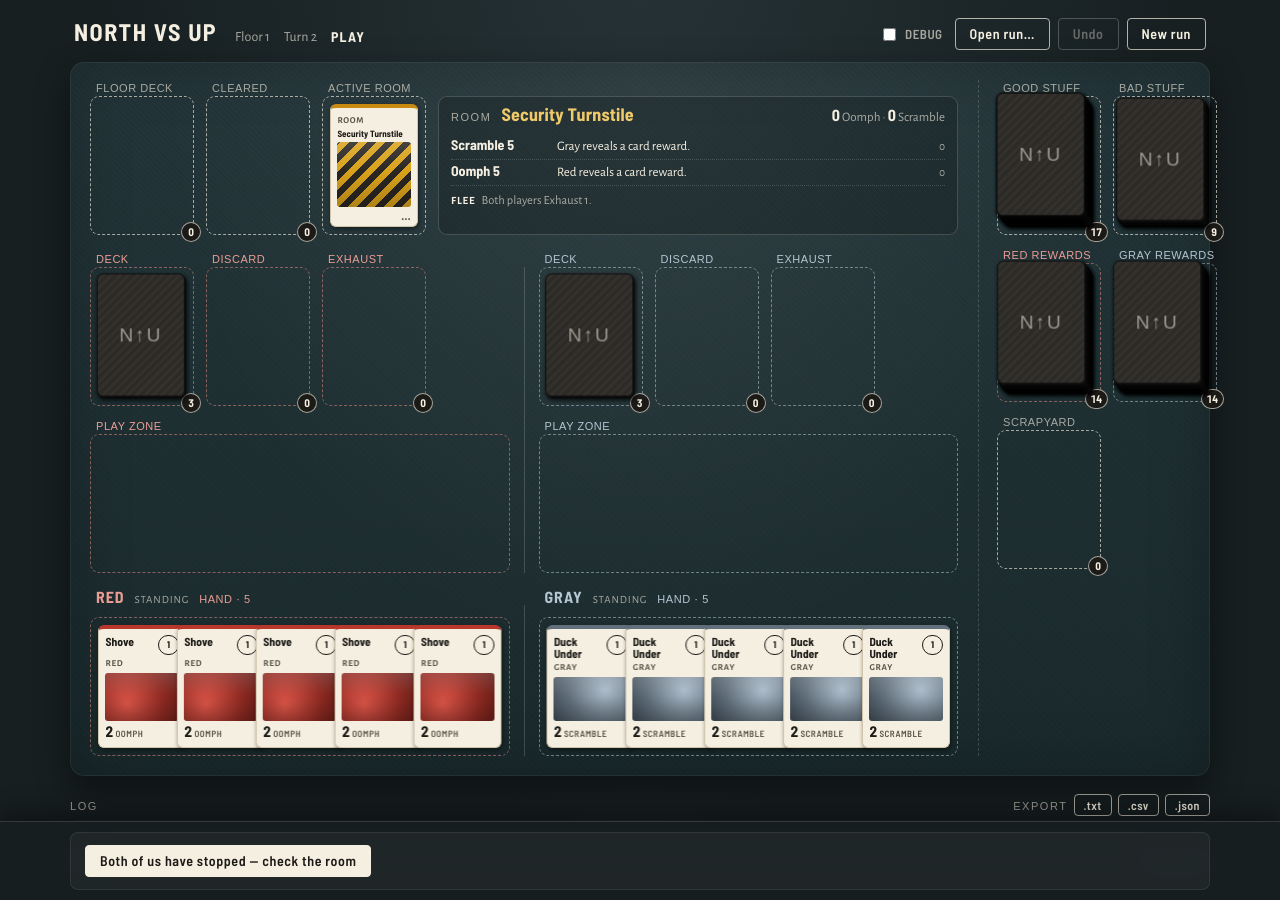
Scenario: on touch › zooms a card that is not a button on a tap
What coordinates should you click on to do the following:
click the element showing "Room Security Turnstile …"
I would click on:
 (374, 166)
Its box is [330,104,418,227].
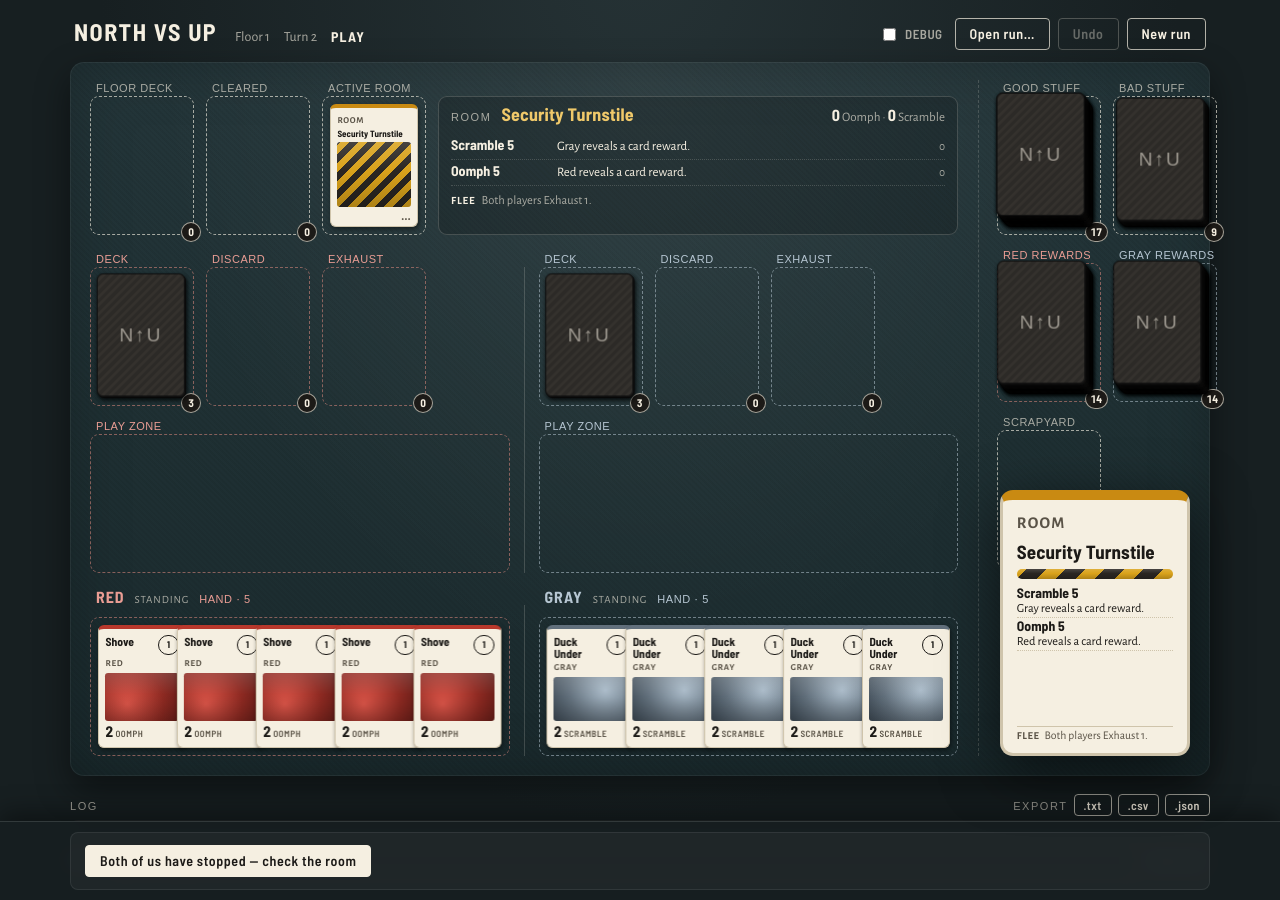
Expected: the element with class "inspector" is shown, [1000,490,1190,756]
